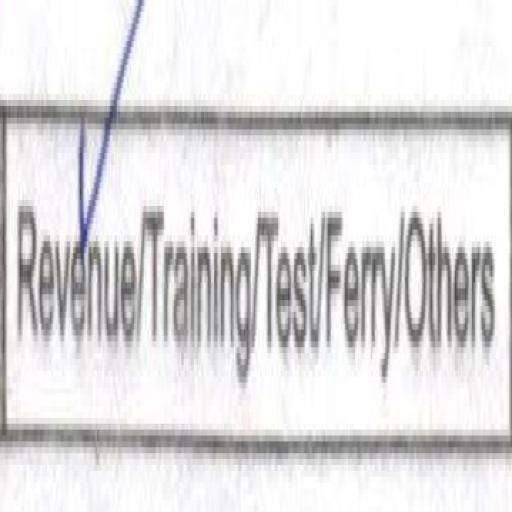check: (6, 19, 140, 438)
